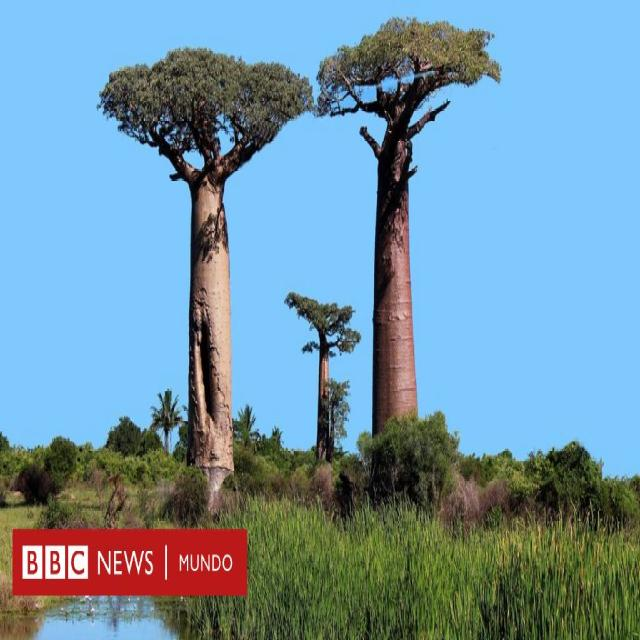baobab: (87, 33, 318, 481), (314, 10, 506, 431), (286, 281, 364, 464)
